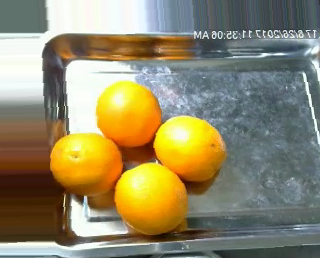Orange: (114, 162, 189, 236), (153, 114, 227, 182), (49, 133, 123, 196), (94, 79, 161, 146)
